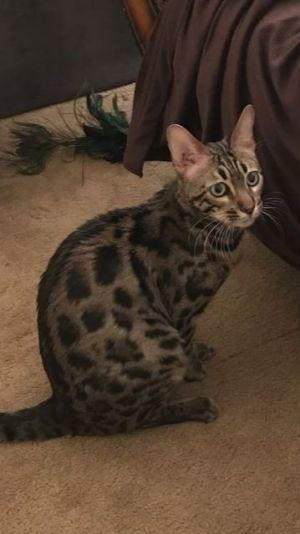bengal: (157, 96, 272, 243)
